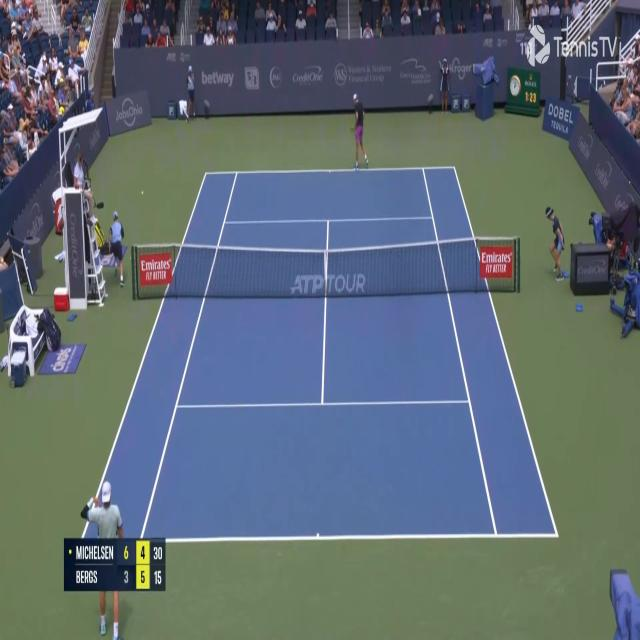tennis-player: (80, 473, 128, 640), (348, 90, 371, 171)
